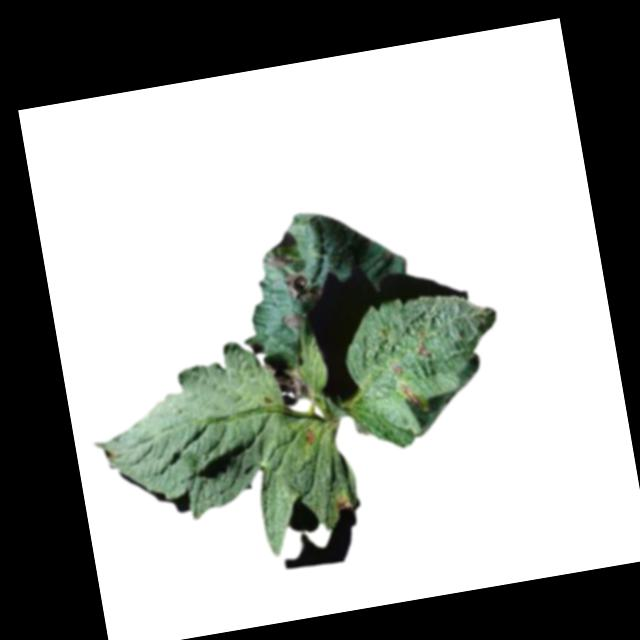Early_blight: (272, 359, 311, 405), (282, 268, 323, 304), (400, 379, 427, 410), (278, 307, 305, 331), (267, 248, 293, 271), (334, 494, 352, 513), (302, 425, 317, 444), (414, 340, 430, 357), (390, 361, 405, 377)
